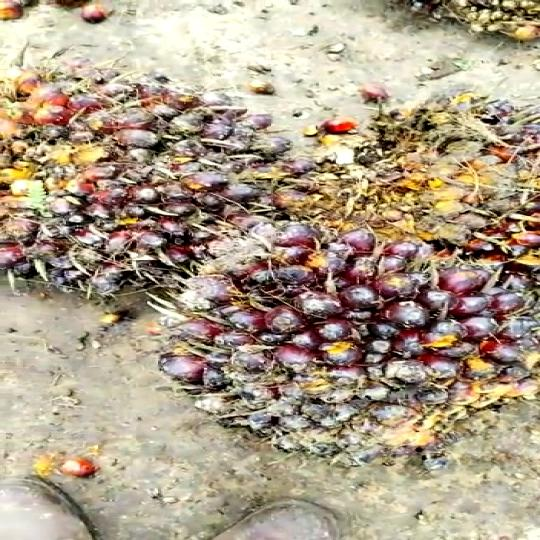kurang masak: (170, 213, 540, 492), (0, 60, 265, 331), (289, 79, 540, 280)
